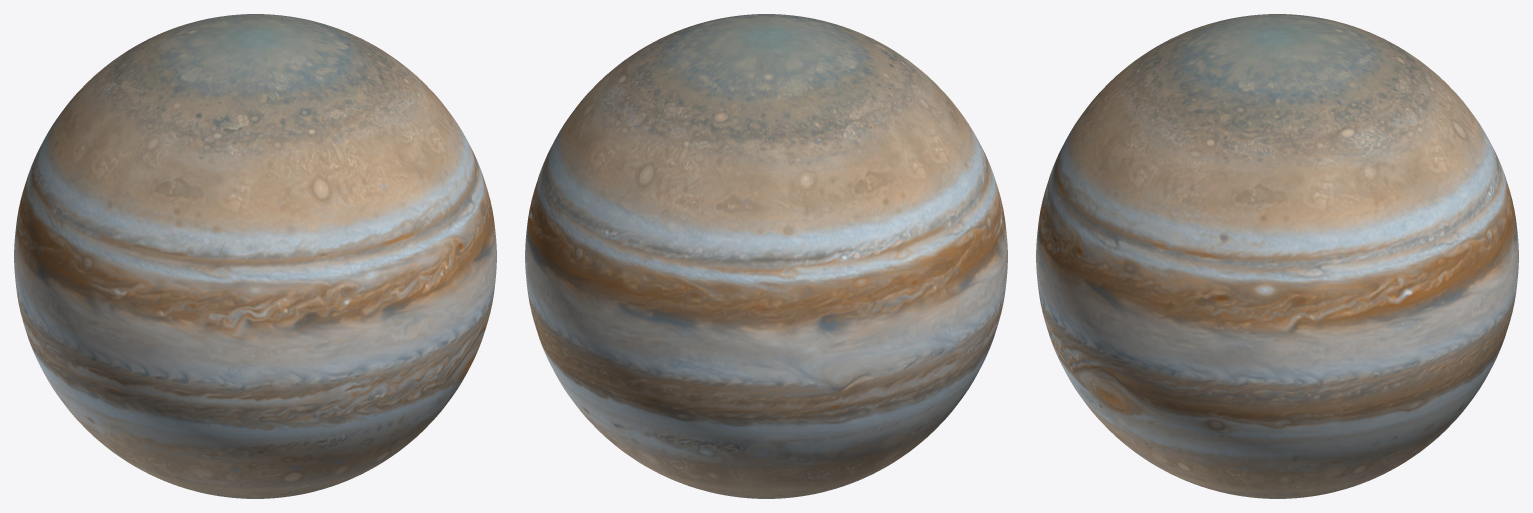
Rendered from jupiter.glb.
3 renders of one model, left to right at view 1: azimuth 30°, elevation 25°; view 2: azimuth 150°, elevation 25°; view 3: azimuth 270°, elevation 25°, orthographic.
Visible parts, largest first — view 1: Sphere_0; view 2: Sphere_0; view 3: Sphere_0.
Part boxes in pixels (box(x1,y1,x2,y2)): Sphere_0: box(14, 14, 496, 498); Sphere_0: box(525, 14, 1007, 498); Sphere_0: box(1036, 14, 1518, 498).
Bounding box in the file's own units: 1.99 × 2 × 1.99.
1 material, 1 textured.
